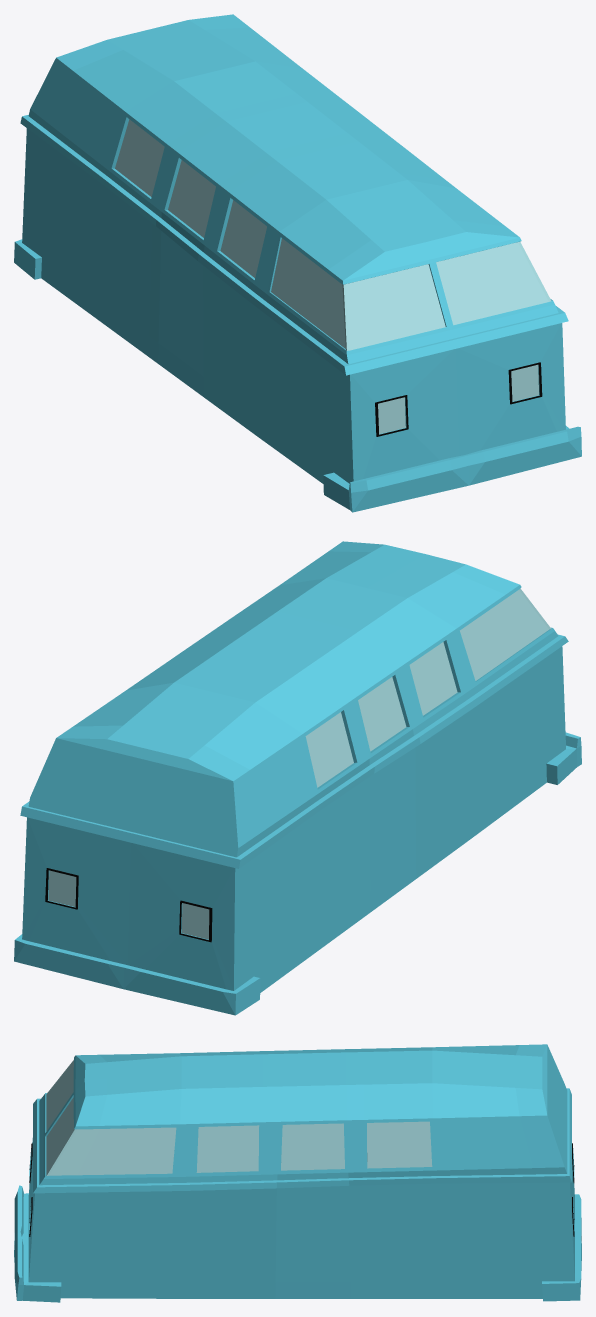
Rendered from CombicomC.fbx.
3 views of the same model, one above another, from view 1: azimuth 30°, elevation 25°; view 2: azimuth 150°, elevation 25°; view 3: azimuth 270°, elevation 25° (orthographic). The views are drawn at different scales.
Parts seen in each view (by area): view 1: Cube.002; view 2: Cube.002; view 3: Cube.002.
Part boxes in pixels (x1,y1,x2,y2): Cube.002: (14,14,581,512); Cube.002: (14,541,581,1015); Cube.002: (14,1044,581,1302).
Bounding box in the file's own units: 136 × 128 × 347.
